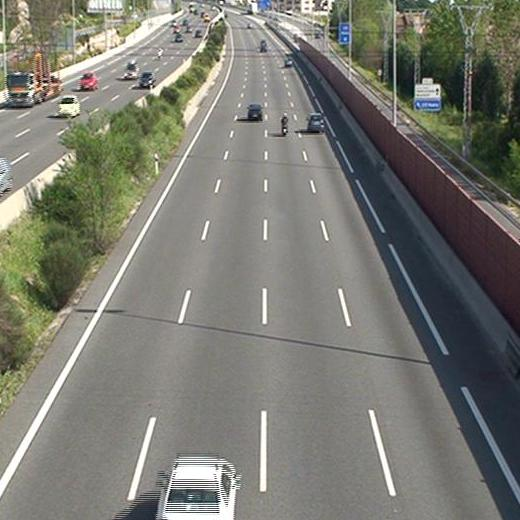car: (155, 458, 238, 520), (307, 114, 324, 132), (247, 103, 261, 119), (284, 58, 292, 67)
motorcycle: (280, 113, 289, 136)
